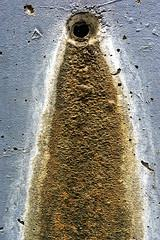Corrosion: (21, 28, 143, 240)
Spalling: (65, 11, 101, 47), (22, 4, 35, 16)
